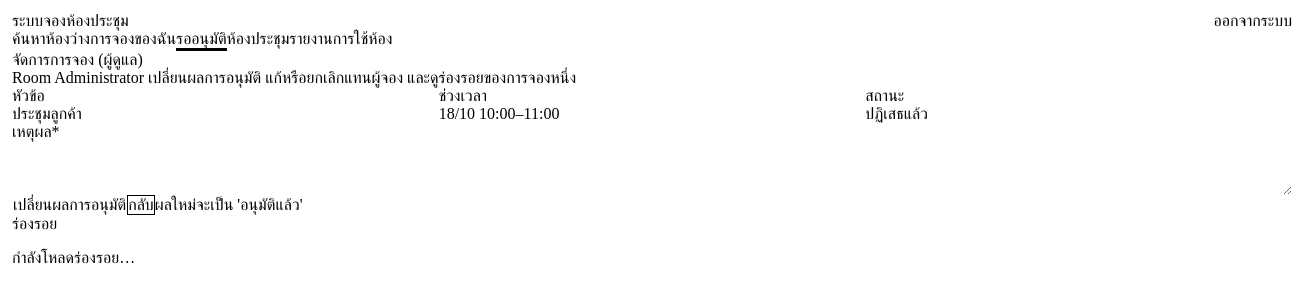
Scenario: FE-mrr-008 change an approval decision page (UI-mrr-010) › error state — the mail did not go: the api's words, status unchanged, the reason kept to press again
Type "ปฏิเสธผิดคน" into the text box with test id "ui-mrr-010-ent-010-reason".
click(652, 168); type("ปฏิเสธผิดคน")  # box [12,141,1292,195]
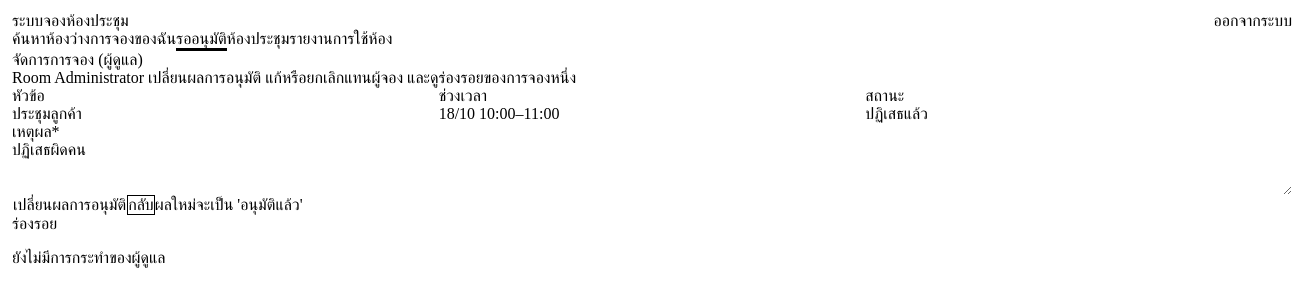
Click the button with test id "ui-mrr-010-change-decision".
click(70, 205)  # box [12,195,127,215]
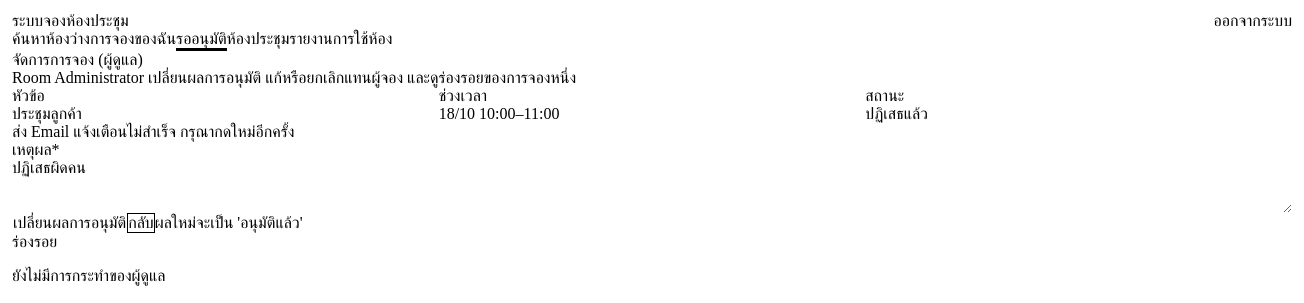
Expected: the text with test id "ui-mrr-010-ent-007-status" reads "ปฏิเสธแล้ว", [865,105,928,122]
Expected: the message reads "ส่ง Email แจ้งเตือนไม่สำเร็จ กรุณากดใหม่อีกครั้ง", [12,123,294,140]
